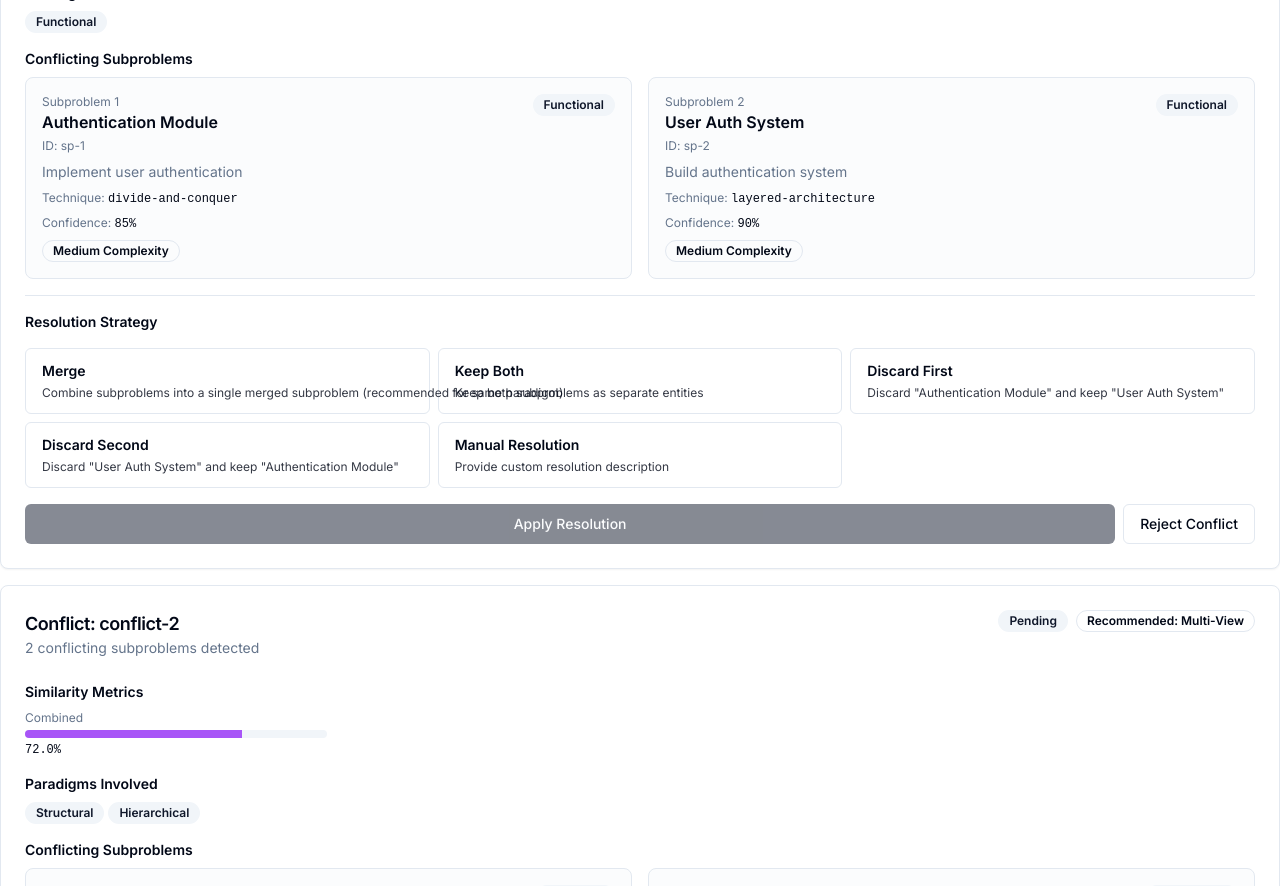
Test: IntegrationConflictViewer › shows manual description textarea when manual strategy is selected
(page scrolled)
Step 1. Click the text "Manual Resolution" → (517, 444), box [455,436,579,453]
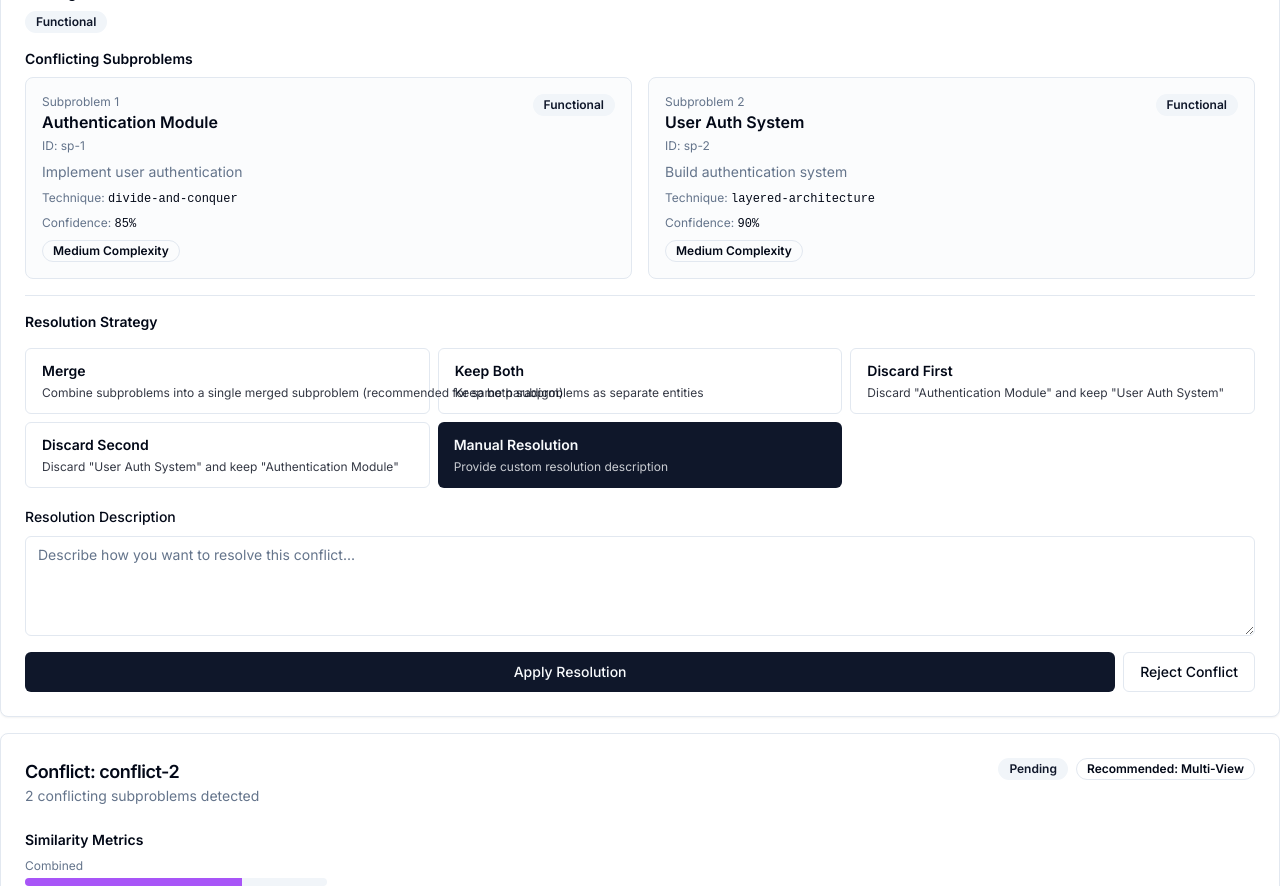
Now the text box with placeholder "Describe how you want to resolve this conflict..." is shown, box [25,536,1255,636]
